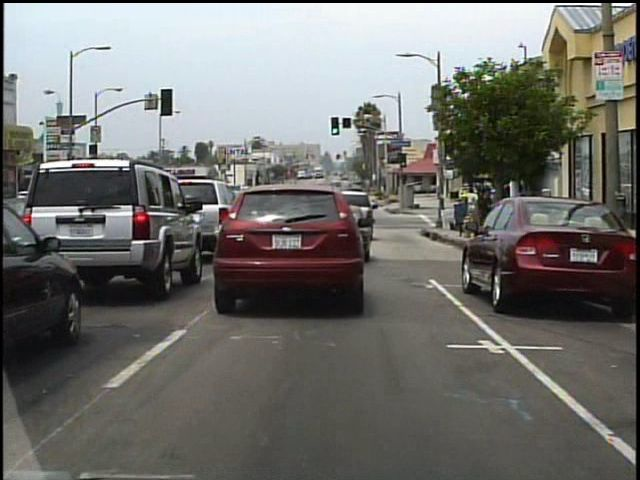person: (476, 192, 492, 241)
